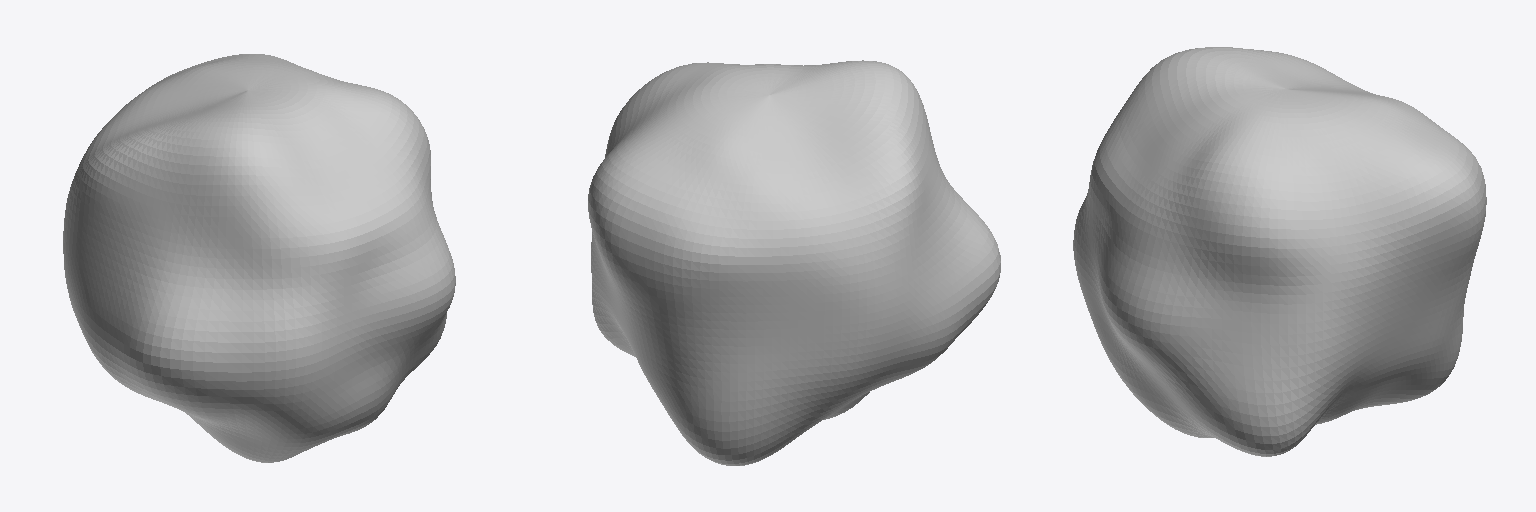
File: asteroid1.obj
The picture shows the model from 3 angles: view 1: azimuth 30°, elevation 25°; view 2: azimuth 150°, elevation 25°; view 3: azimuth 270°, elevation 25°; orthographic projection.
Parts seen in each view (by area): view 1: Sphere; view 2: Sphere; view 3: Sphere.
Part boxes in pixels (x1,y1,x2,y2): Sphere: (63,54,455,462); Sphere: (588,60,1000,465); Sphere: (1073,47,1486,456).
Size of the model in its own units: 2.15 by 2.06 by 2.21.